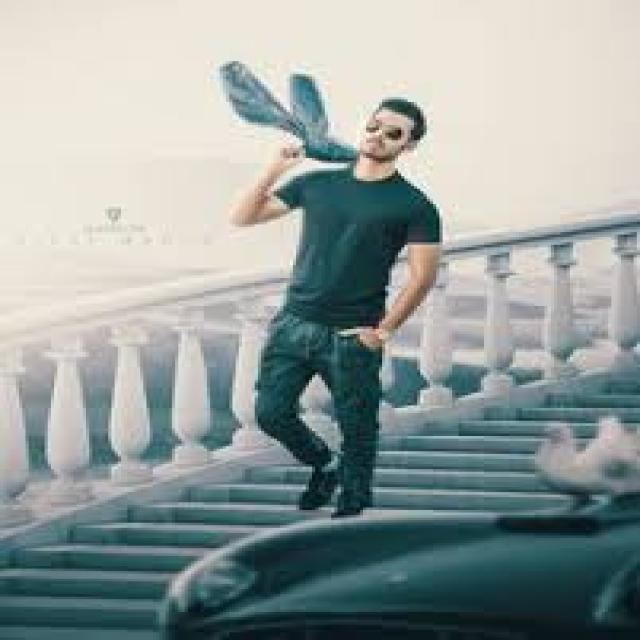Edited images: (206, 48, 471, 521)
